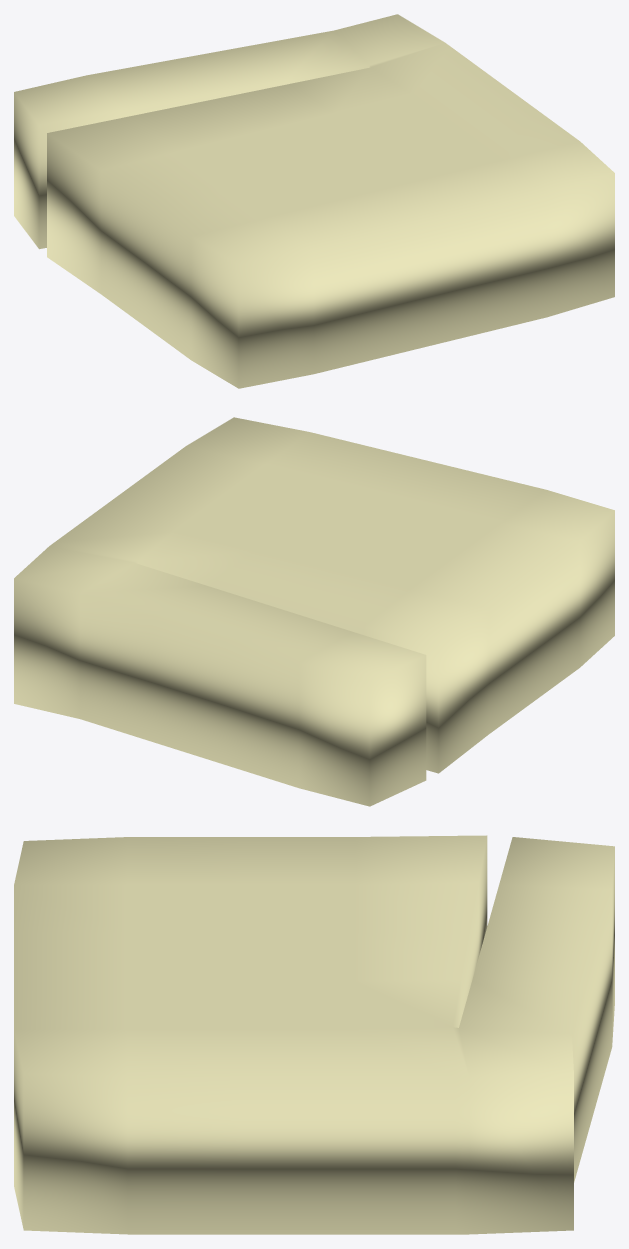
Rendered from tofu.fbx.
The picture shows the model from 3 angles, top to bottom: view 1: azimuth 30°, elevation 25°; view 2: azimuth 150°, elevation 25°; view 3: azimuth 270°, elevation 25°; orthographic projection. The views are drawn at different scales.
Visible parts, largest first — view 1: Cube; view 2: Cube; view 3: Cube.
Boxes of the visible parts, left/top/right/bottom form: Cube: left=14, top=14, right=614, bottom=388; Cube: left=14, top=417, right=614, bottom=806; Cube: left=14, top=835, right=614, bottom=1234.
Size of the model in its own units: 127 by 121 by 36.54.
